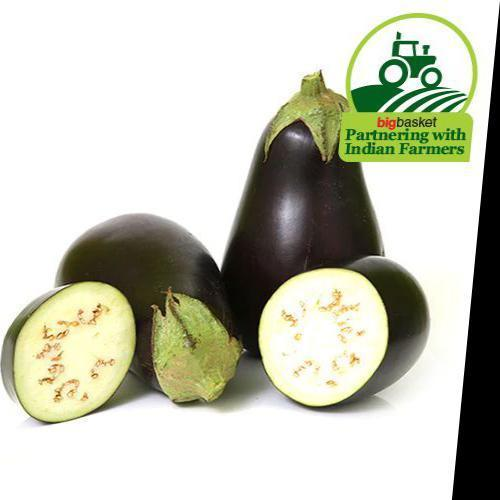eggplant: (18, 206, 346, 433)
